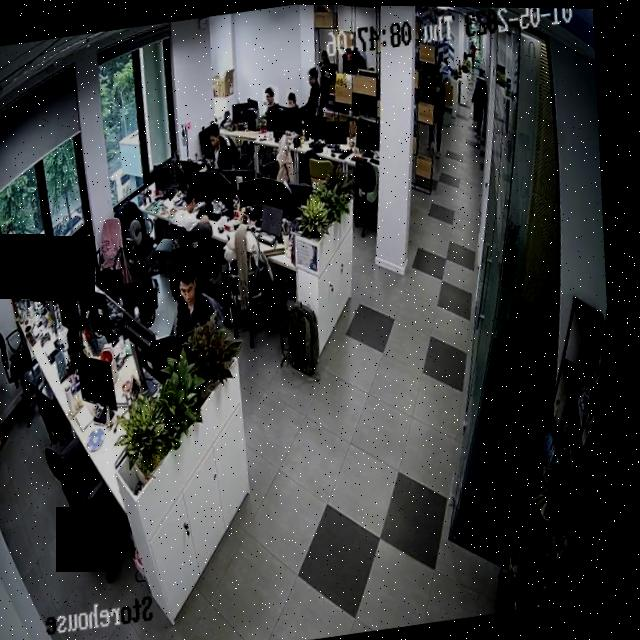person: (165, 251, 239, 338), (168, 178, 218, 236), (203, 124, 243, 174), (296, 64, 330, 118), (262, 85, 285, 116), (285, 86, 301, 113)
